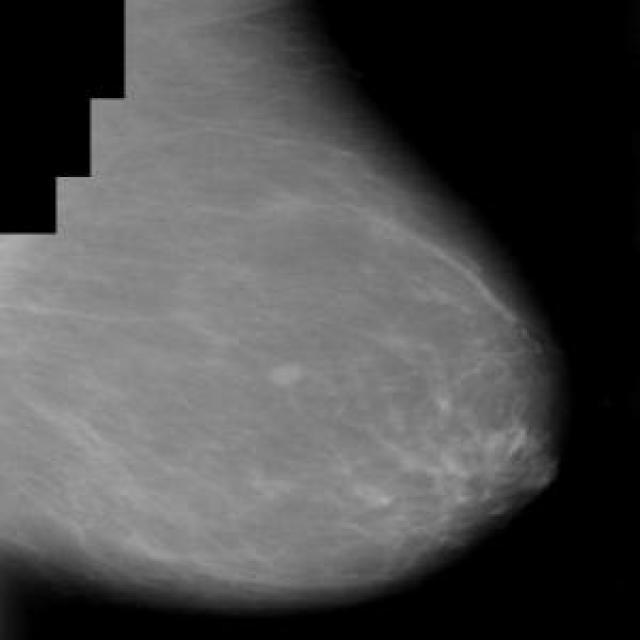tumor: (389, 399, 524, 506), (259, 342, 321, 391)
